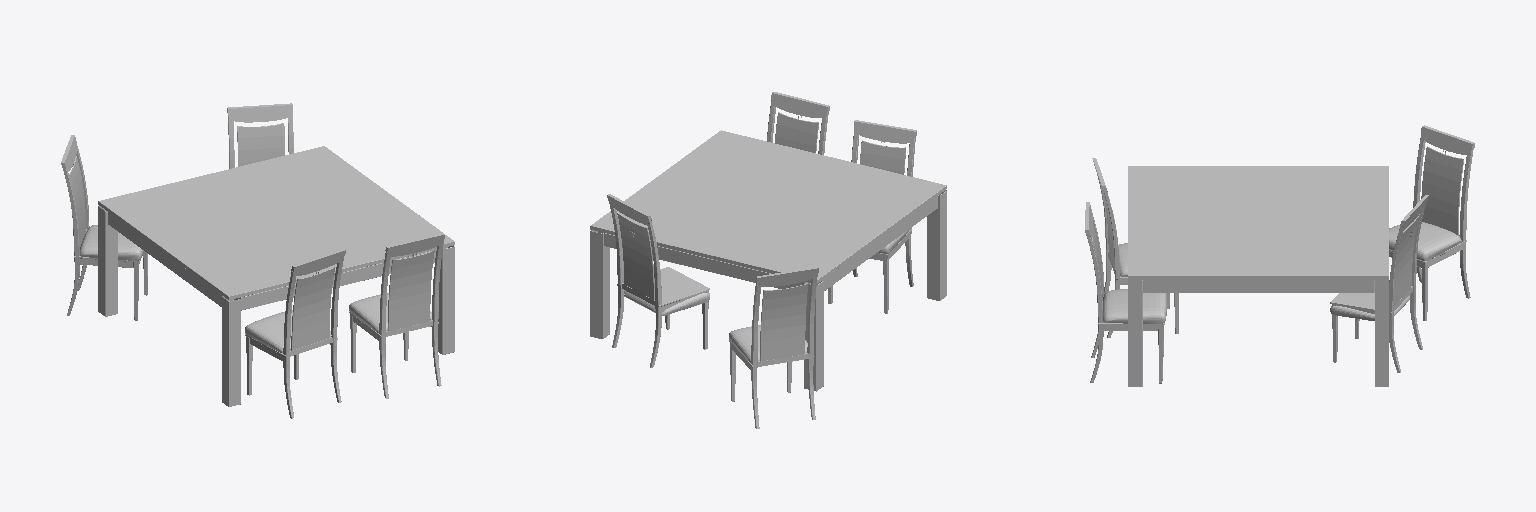
The model's file is Mesa y sillas.obj.
3 renders of one model, left to right at view 1: azimuth 30°, elevation 25°; view 2: azimuth 150°, elevation 25°; view 3: azimuth 270°, elevation 25°, orthographic.
Parts seen in each view (by area): view 1: 3DSMesh_6_6, 3DSMesh_9_7, 3DSMesh_15_11, 3DSMesh_27_19, 3DSMesh_30_21, 3DSMesh_17_12, 3DSMesh_32_22, 3DSMesh_11_8; view 2: 3DSMesh_6_6, 3DSMesh_30_21, 3DSMesh_27_19, 3DSMesh_15_11, 3DSMesh_9_7, 3DSMesh_32_22, 3DSMesh_29_20; view 3: 3DSMesh_6_6, 3DSMesh_30_21, 3DSMesh_27_19, 3DSMesh_9_7, 3DSMesh_15_11, 3DSMesh_11_8, 3DSMesh_32_22.
Boxes of the visible parts, x1=… form: 3DSMesh_6_6: x1=98, y1=146, x2=454, y2=406; 3DSMesh_9_7: x1=349, y1=233, x2=444, y2=398; 3DSMesh_15_11: x1=245, y1=249, x2=345, y2=418; 3DSMesh_27_19: x1=227, y1=103, x2=293, y2=168; 3DSMesh_30_21: x1=61, y1=135, x2=147, y2=320; 3DSMesh_17_12: x1=245, y1=310, x2=330, y2=352; 3DSMesh_32_22: x1=80, y1=225, x2=143, y2=260; 3DSMesh_11_8: x1=349, y1=293, x2=431, y2=332; 3DSMesh_6_6: x1=590, y1=130, x2=946, y2=391; 3DSMesh_30_21: x1=729, y1=267, x2=818, y2=428; 3DSMesh_27_19: x1=607, y1=194, x2=709, y2=367; 3DSMesh_15_11: x1=828, y1=120, x2=916, y2=313; 3DSMesh_9_7: x1=767, y1=92, x2=829, y2=154; 3DSMesh_32_22: x1=729, y1=325, x2=807, y2=362; 3DSMesh_29_20: x1=624, y1=290, x2=709, y2=315; 3DSMesh_6_6: x1=1128, y1=166, x2=1388, y2=386; 3DSMesh_30_21: x1=1389, y1=125, x2=1474, y2=320; 3DSMesh_27_19: x1=1330, y1=195, x2=1428, y2=372; 3DSMesh_9_7: x1=1085, y1=202, x2=1164, y2=383; 3DSMesh_15_11: x1=1092, y1=158, x2=1178, y2=337; 3DSMesh_11_8: x1=1103, y1=289, x2=1166, y2=323; 3DSMesh_32_22: x1=1389, y1=222, x2=1461, y2=260.
Bounding box in the file's own units: 1.52 × 0.9799 × 2.09.